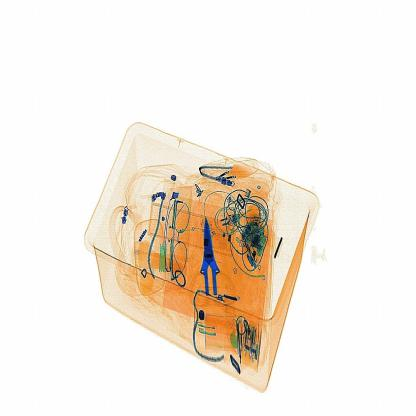gun: (187, 209, 248, 308)
